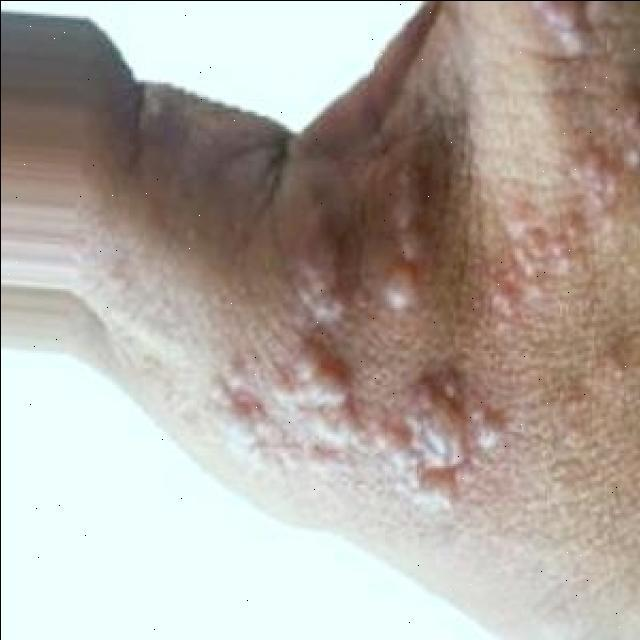Shingles: (212, 341, 503, 511), (474, 96, 640, 336), (378, 156, 437, 318), (292, 214, 343, 324)
